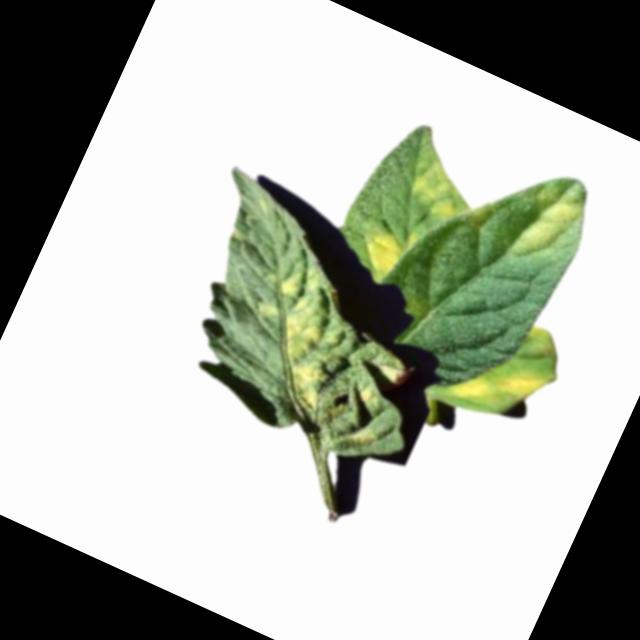Leaf_Mold: (224, 257, 375, 423), (390, 127, 497, 232), (444, 336, 557, 435), (507, 166, 598, 275), (349, 208, 425, 290)
